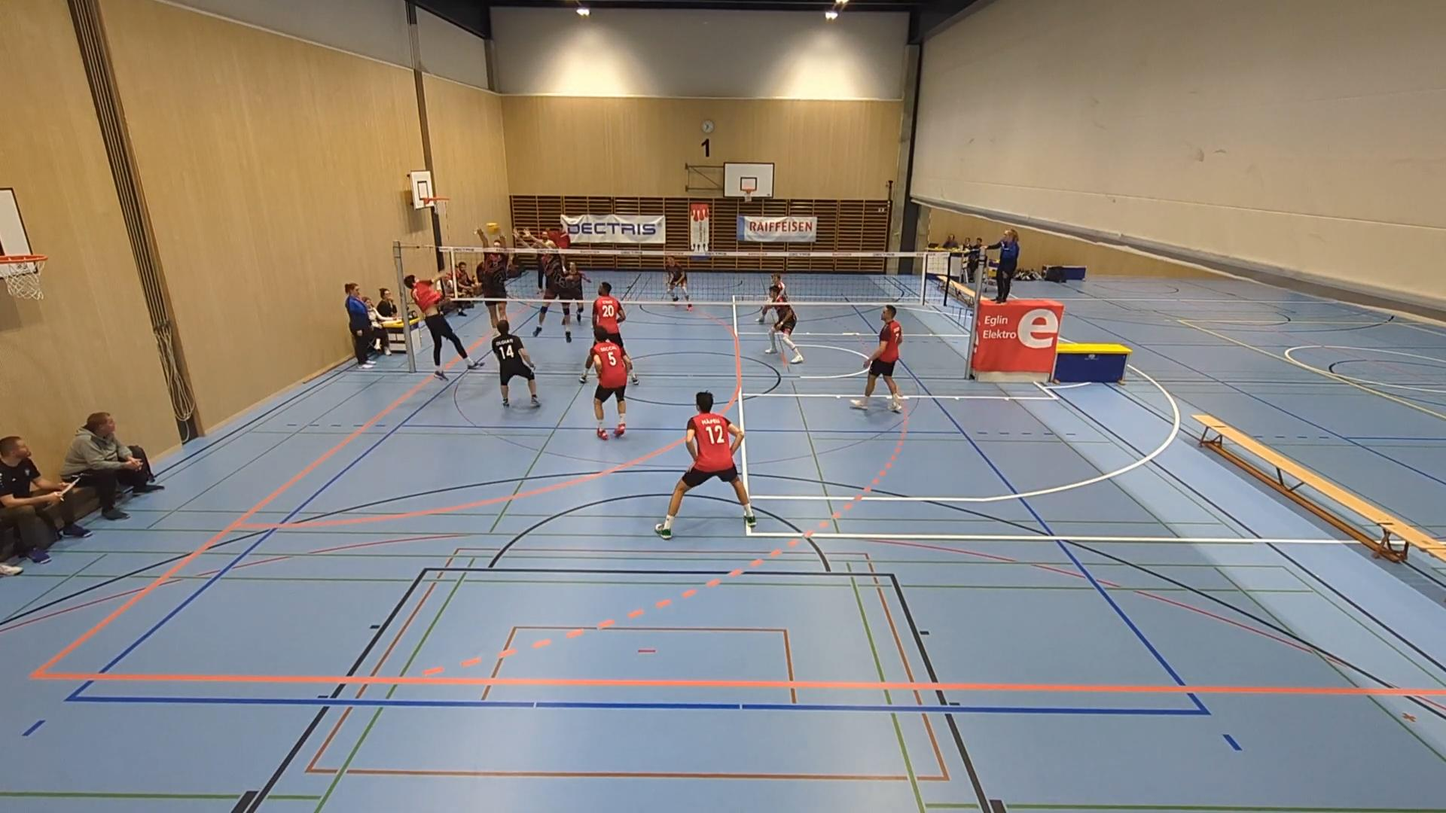Attack: (408, 271, 483, 387)
Block: (518, 225, 575, 345), (474, 221, 514, 343)
Player: (654, 392, 755, 539), (851, 306, 902, 411), (587, 325, 631, 440), (491, 319, 539, 406), (767, 286, 804, 363), (558, 261, 585, 342), (593, 282, 625, 347), (664, 255, 691, 310), (770, 273, 786, 295)
ball: (481, 221, 504, 236)
